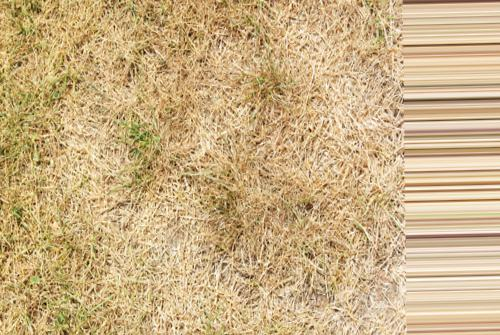patch: (119, 149, 288, 295), (7, 97, 98, 228), (116, 42, 262, 119), (306, 153, 378, 302), (18, 17, 111, 84), (33, 243, 108, 317), (297, 26, 364, 101), (296, 106, 374, 152), (191, 308, 213, 324), (132, 309, 149, 321)
